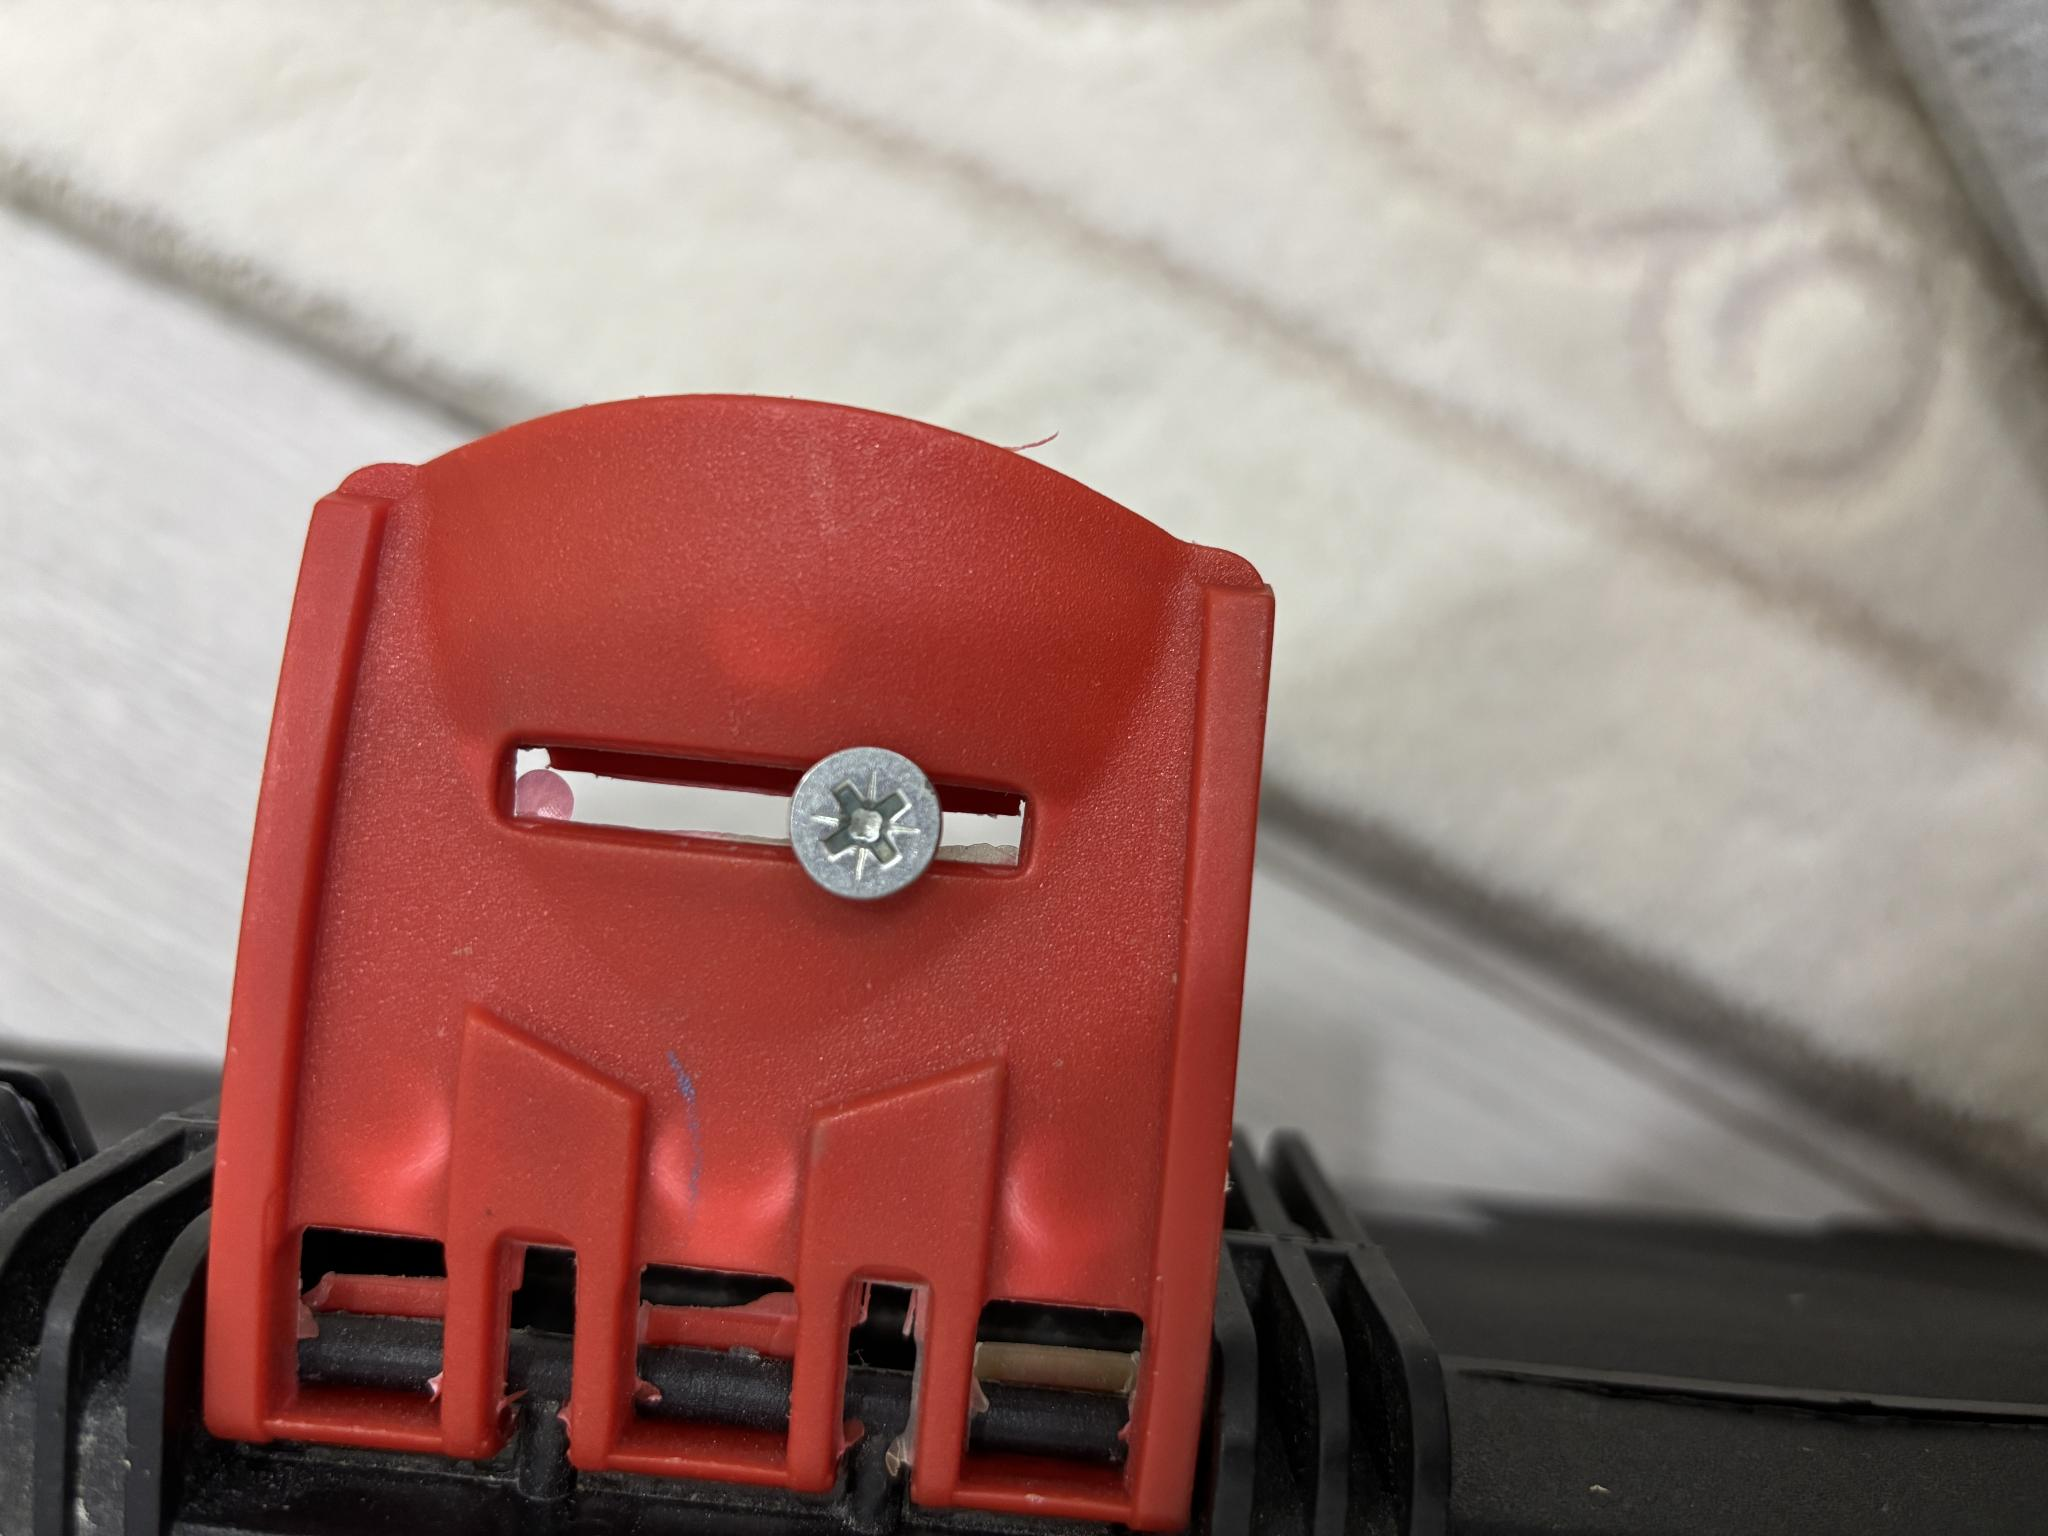PZ: (635, 789, 789, 942)
